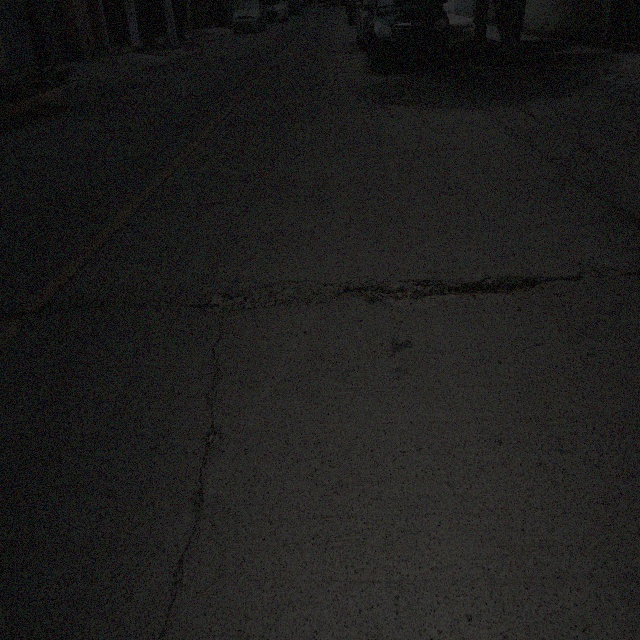pothole: (234, 278, 319, 315), (448, 272, 535, 302), (372, 284, 439, 310), (52, 292, 102, 317)
